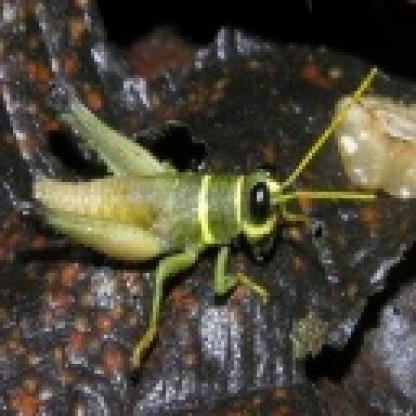grasshopper: (10, 67, 387, 338)
